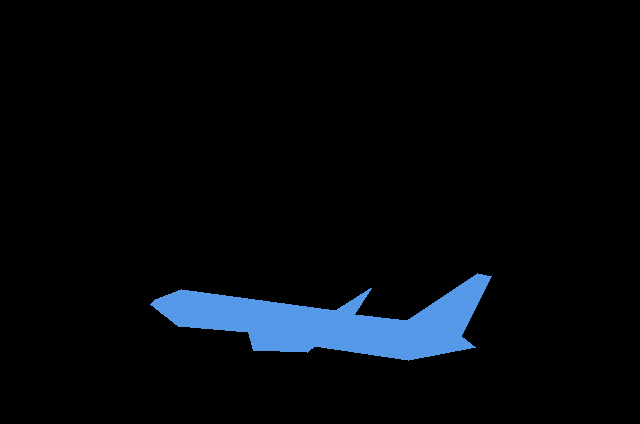Airplane: (150, 273, 491, 360)
